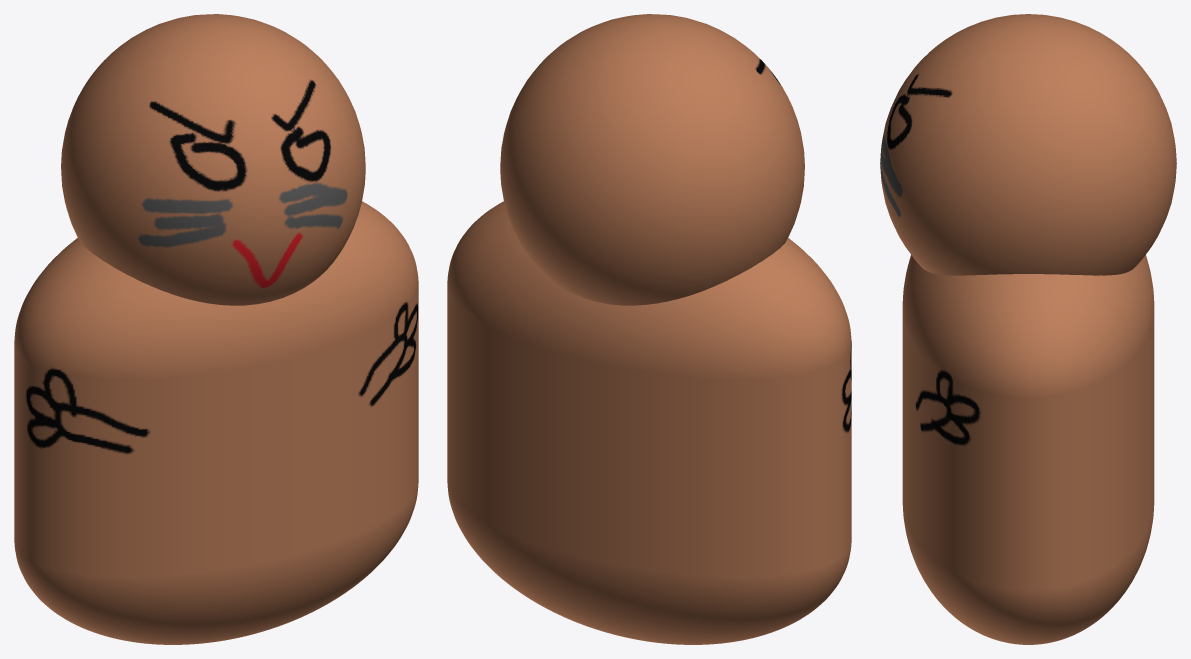
The model's file is mole.glb.
3 renders of one model, left to right at view 1: azimuth 30°, elevation 25°; view 2: azimuth 150°, elevation 25°; view 3: azimuth 270°, elevation 25°, orthographic. The views are drawn at different scales.
Parts seen in each view (by area): view 1: node_id7, node_id11; view 2: node_id7, node_id11; view 3: node_id7, node_id11.
Boxes of the visible parts, x1=… form: node_id7: x1=14, y1=201, x2=418, y2=644; node_id11: x1=61, y1=14, x2=365, y2=305; node_id7: x1=447, y1=201, x2=851, y2=644; node_id11: x1=500, y1=14, x2=804, y2=305; node_id7: x1=902, y1=255, x2=1154, y2=644; node_id11: x1=880, y1=14, x2=1176, y2=275.
Bounding box in the file's own units: 0.3419 × 0.512 × 0.2358.
2 materials, 2 textured.
